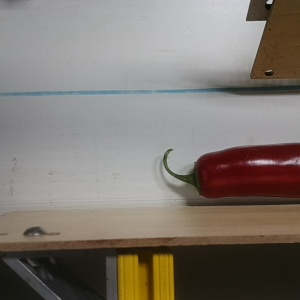Cut Point: (184, 151, 216, 201)
